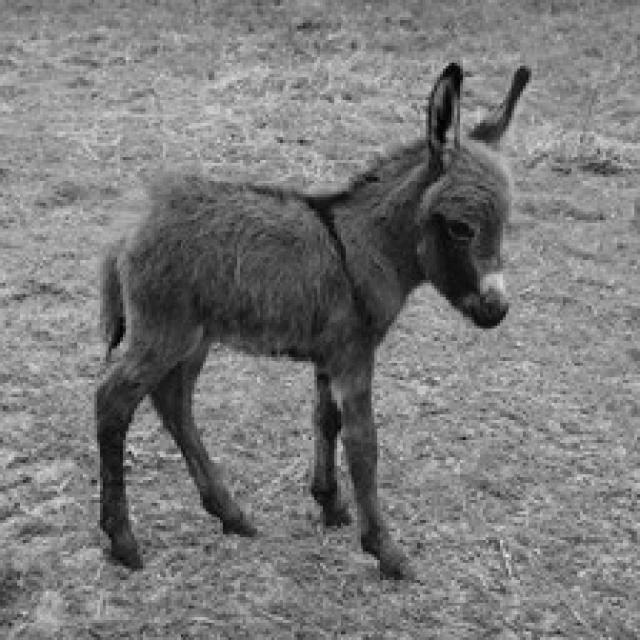Donkey: (91, 60, 532, 580)
